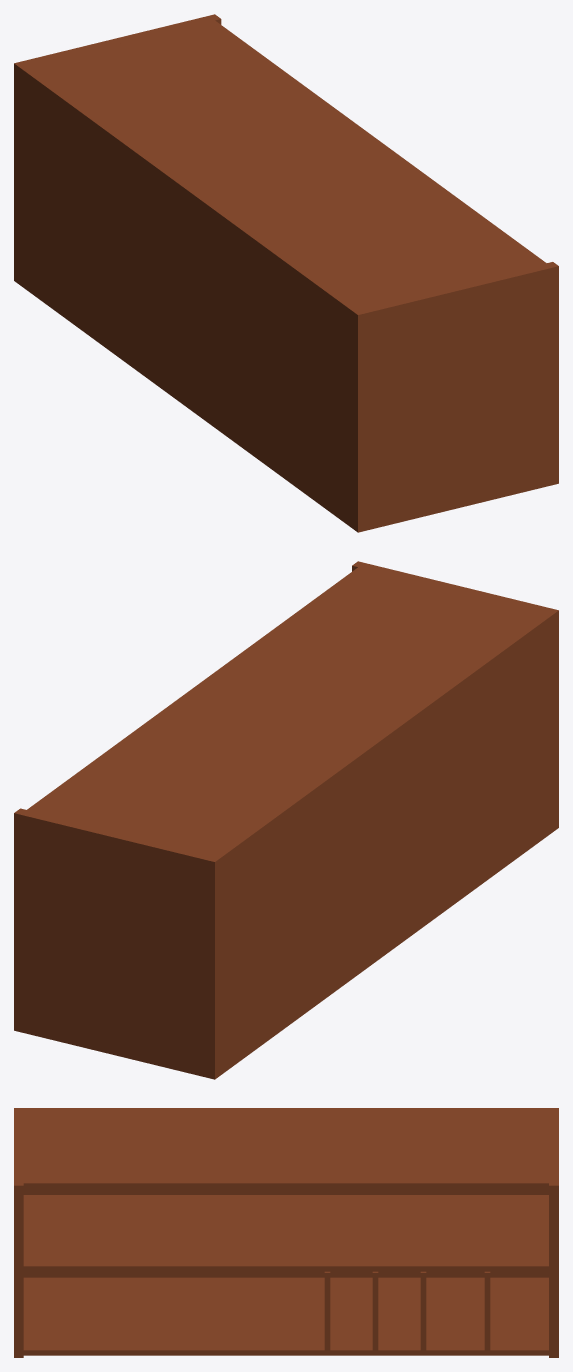
The picture shows the model from 3 angles, top to bottom: view 1: azimuth 30°, elevation 25°; view 2: azimuth 150°, elevation 25°; view 3: azimuth 270°, elevation 25°; orthographic projection. The views are drawn at different scales.
Visible parts, largest first — view 1: ROOT_link (×5); view 2: ROOT_link (×5); view 3: ROOT_link (×10).
Boxes of the visible parts, box(x1,y1,x2,y2) form: ROOT_link (×5): box(14, 14, 558, 532); ROOT_link (×5): box(14, 561, 558, 1079); ROOT_link (×10): box(14, 1108, 558, 1357).
Size of the model in its own units: 0.58 by 0.6 by 1.72.
